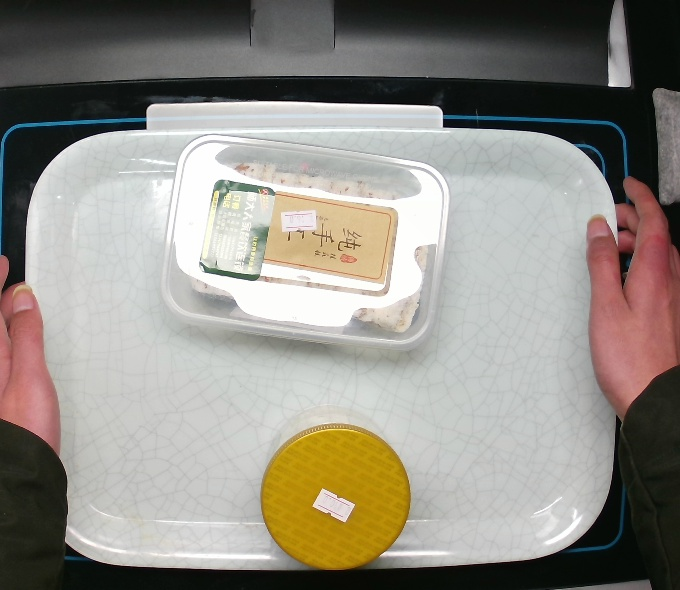wcq-GuiHuaGao: (159, 132, 451, 354)
wcq-MaiYaTang: (259, 402, 413, 573)
